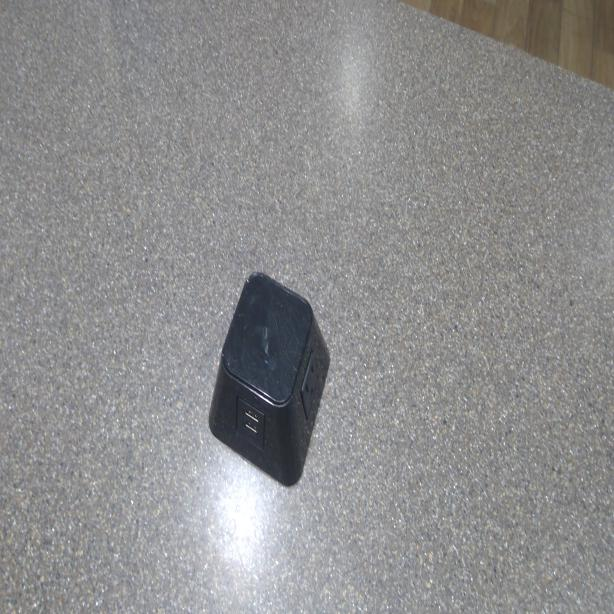typeb: (300, 360, 321, 406)
